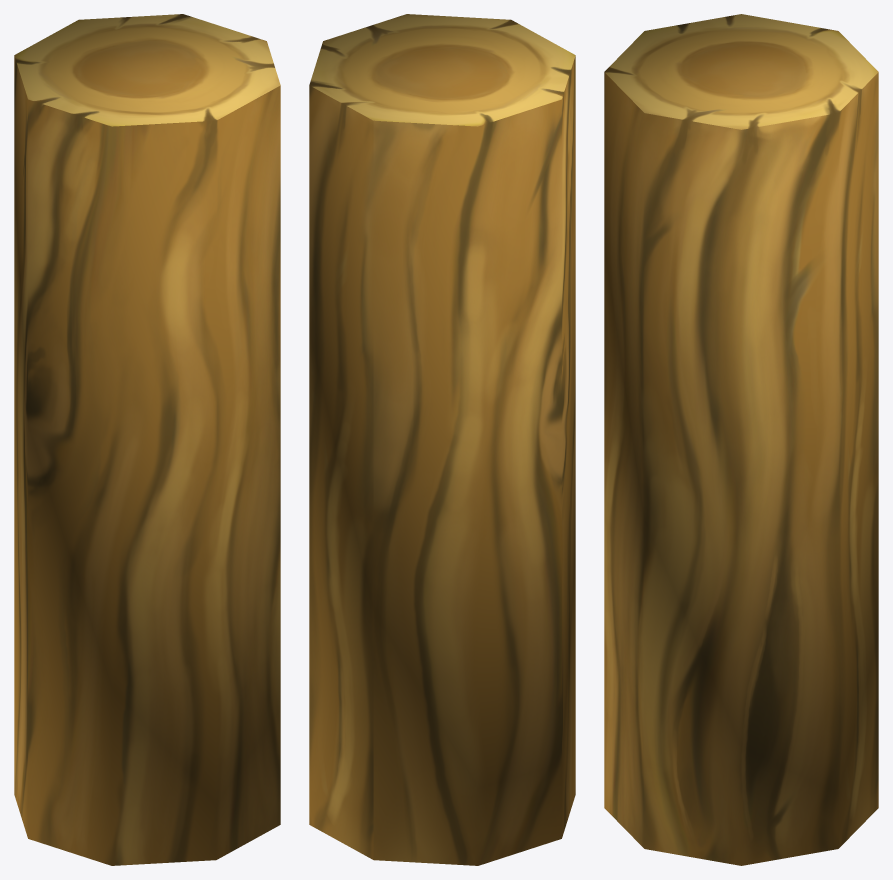
Rendered from tronco.glb.
3 views of the same model, side by side, from view 1: azimuth 30°, elevation 25°; view 2: azimuth 150°, elevation 25°; view 3: azimuth 270°, elevation 25° (orthographic).
Visible parts, largest first — view 1: Object_2; view 2: Object_2; view 3: Object_2.
Part boxes in pixels (left/top/right/bottom): Object_2: left=14, top=14, right=280, bottom=865; Object_2: left=309, top=14, right=575, bottom=865; Object_2: left=604, top=14, right=878, bottom=865.
Size of the model in its own units: 0.676 by 2 by 0.676.
Materials: 1 (1 with a texture image).
